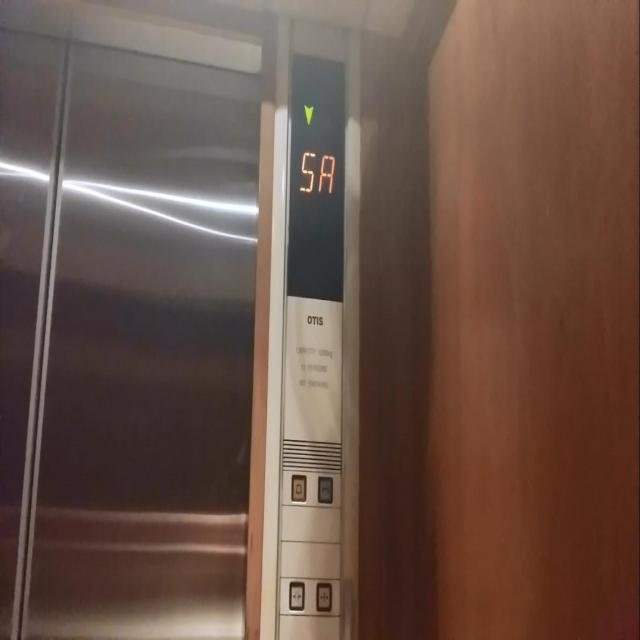alarm: (290, 472, 306, 502)
call: (317, 474, 333, 504)
close: (316, 582, 331, 610)
led: (284, 46, 348, 303)
open: (289, 580, 304, 611)
